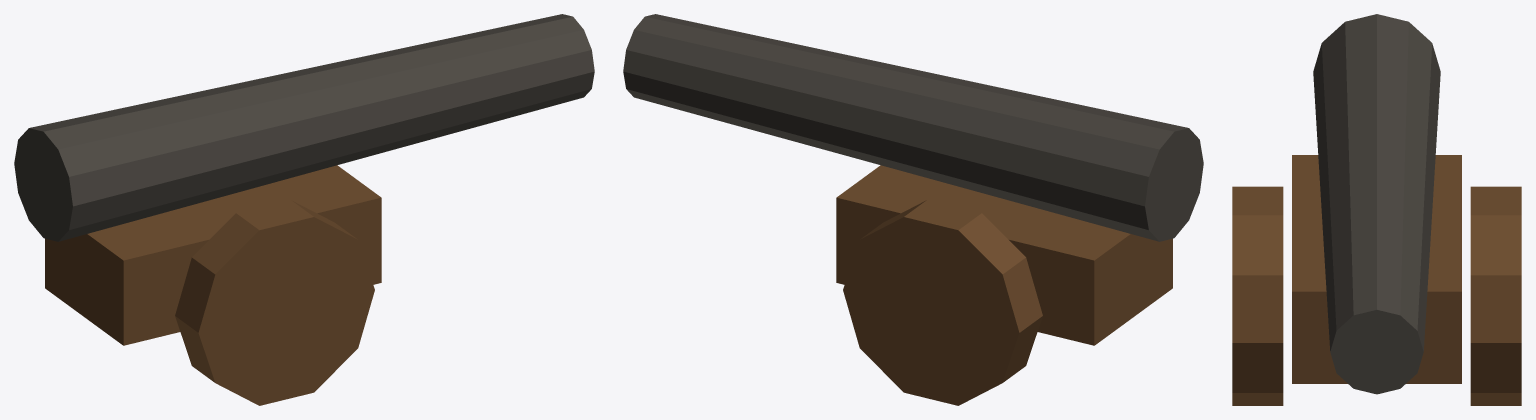
Rendered from cannon.glb.
3 views of the same model, side by side, from view 1: azimuth 30°, elevation 25°; view 2: azimuth 150°, elevation 25°; view 3: azimuth 270°, elevation 25° (orthographic). The views are drawn at different scales.
Parts seen in each view (by area): view 1: cannon; view 2: cannon; view 3: cannon.
Part boxes in pixels (<box>): cannon: <box>14,14,594,405</box>; cannon: <box>623,14,1203,405</box>; cannon: <box>1232,14,1521,405</box>.
Bounding box in the file's own units: 0.78 × 0.3686 × 0.34.
